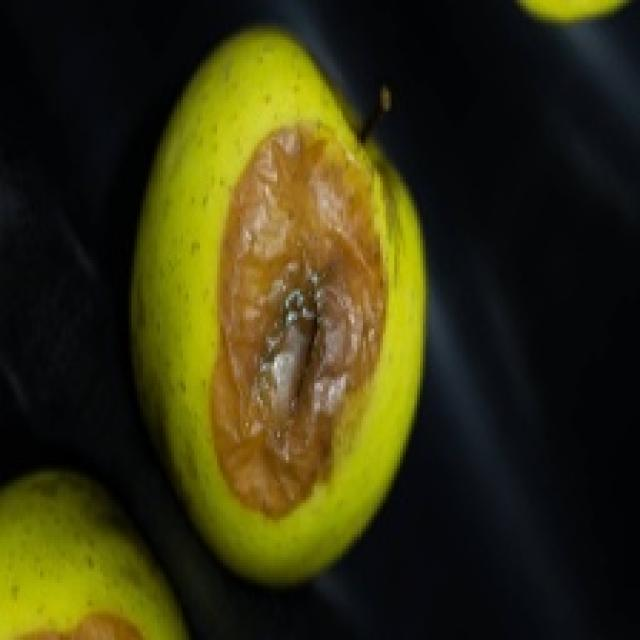rotten_apple: (146, 37, 429, 583)
